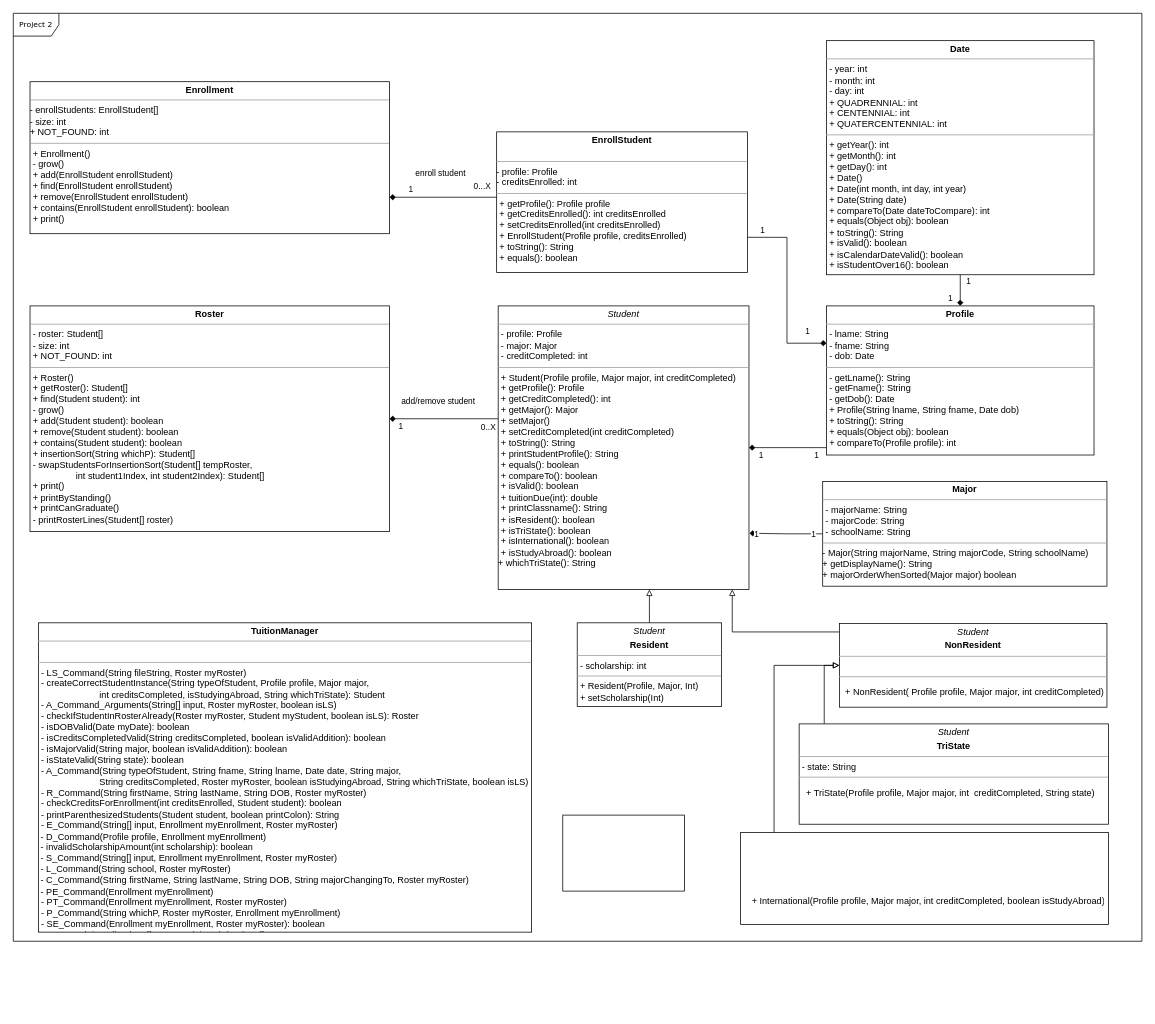
The diagram is 1155 pixels wide and 1024 high, and some of its shapes have lost their labels. Here are the shapes that lost their labels. From the top down, the centre of each, then its label:
At pixel 623 852: "RunProject2 + main(Type): String[] args".
At pixel 924 878: "Student International - isStudyAbroad: boolean".
